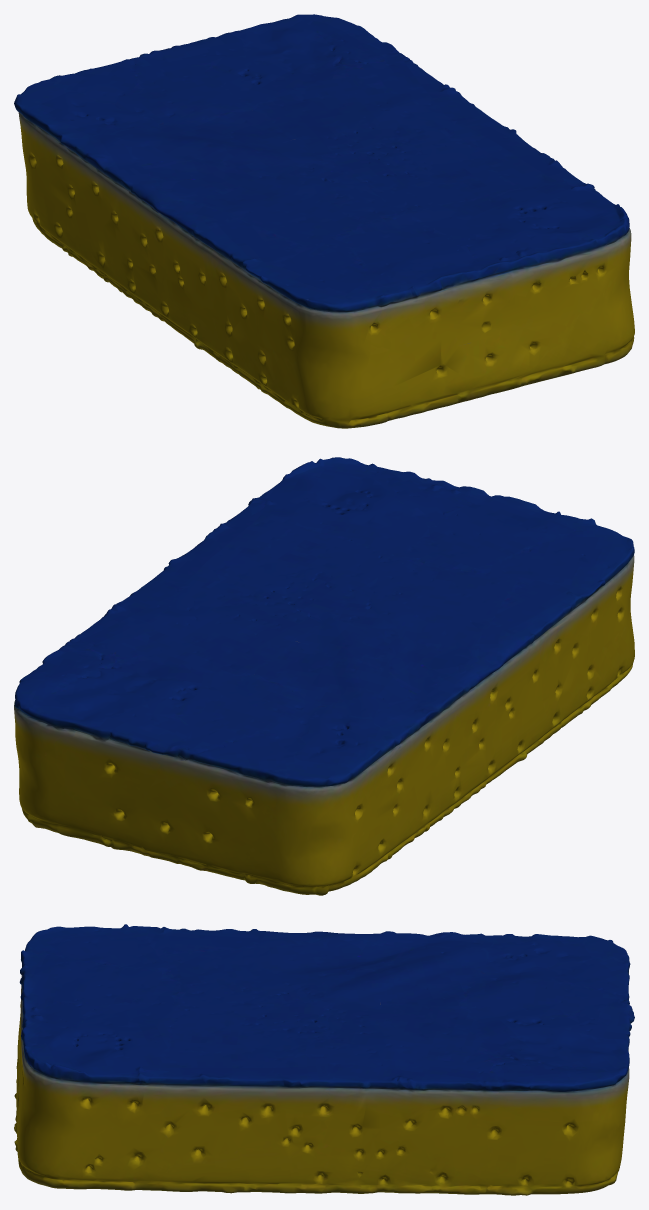
File: dual-combination-microfibre-sponge.glb
The picture shows the model from 3 angles, top to bottom: view 1: azimuth 30°, elevation 25°; view 2: azimuth 150°, elevation 25°; view 3: azimuth 270°, elevation 25°; orthographic projection. The views are drawn at different scales.
Visible parts, largest first — view 1: tripo_node_06e8dd96-da6f-4bd0-8a94-26777633fb20; view 2: tripo_node_06e8dd96-da6f-4bd0-8a94-26777633fb20; view 3: tripo_node_06e8dd96-da6f-4bd0-8a94-26777633fb20.
Boxes of the visible parts, <box> form: tripo_node_06e8dd96-da6f-4bd0-8a94-26777633fb20: <box>14,14,634,428</box>; tripo_node_06e8dd96-da6f-4bd0-8a94-26777633fb20: <box>14,457,634,895</box>; tripo_node_06e8dd96-da6f-4bd0-8a94-26777633fb20: <box>14,924,634,1195</box>.
Size of the model in its own units: 0.6005 by 0.2483 by 1.
Materials: 1 (1 with a texture image).
